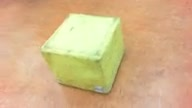cube: (40, 13, 125, 93)
